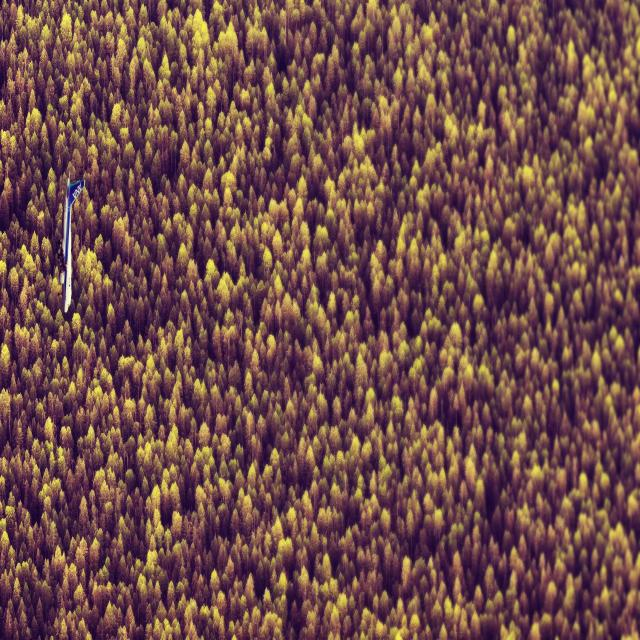airplane: (60, 174, 86, 313)
